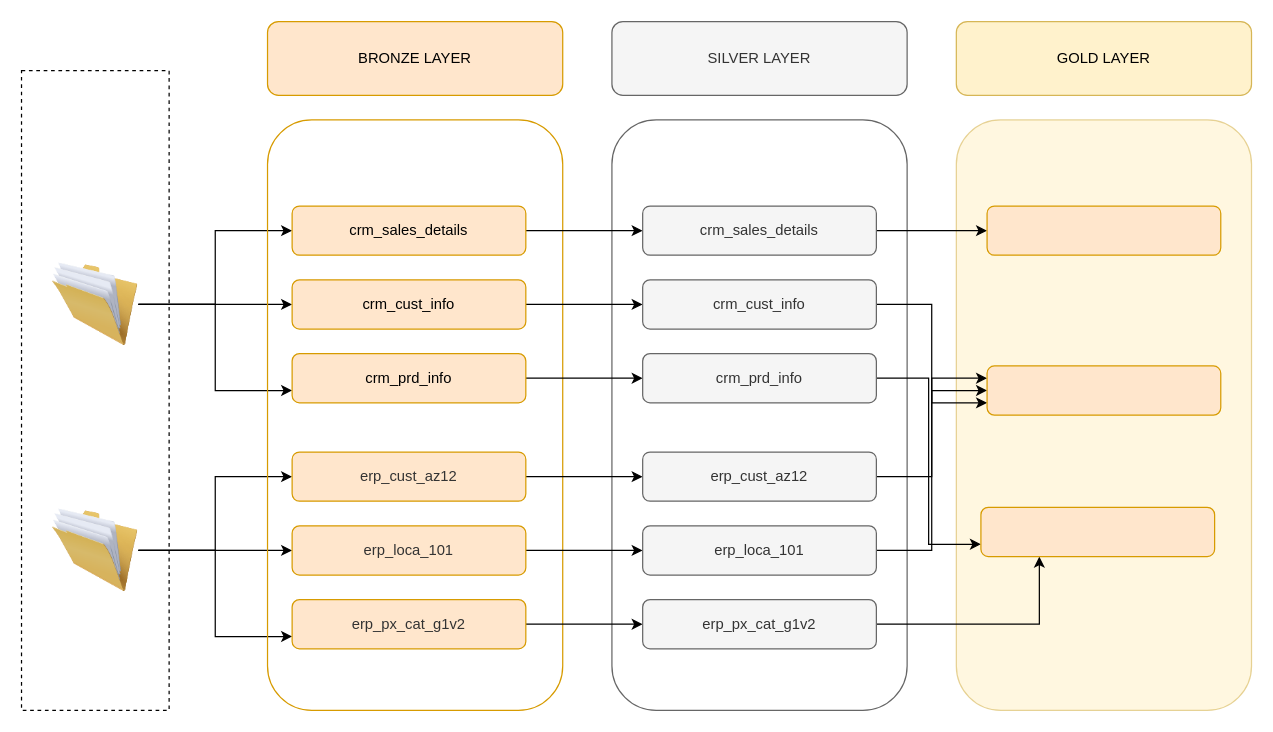
Some shapes in this 1273 by 732 pixel diagram are drawn without their labels. Each missing label, with the centre of its shape:
"CRM" belongs at point (95, 304).
"dim_customers" belongs at point (1103, 390).
"dim_products" belongs at point (1097, 531).
"ERP" belongs at point (95, 550).
"Fact_sales" belongs at point (1103, 230).
